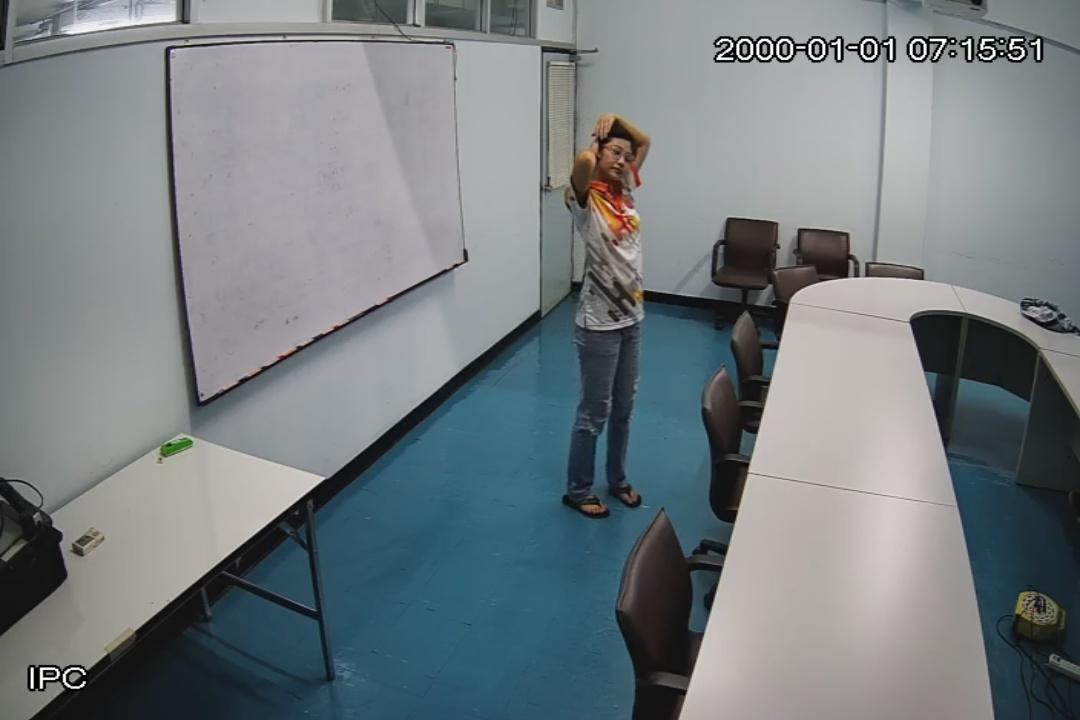normal: (562, 108, 652, 520)
